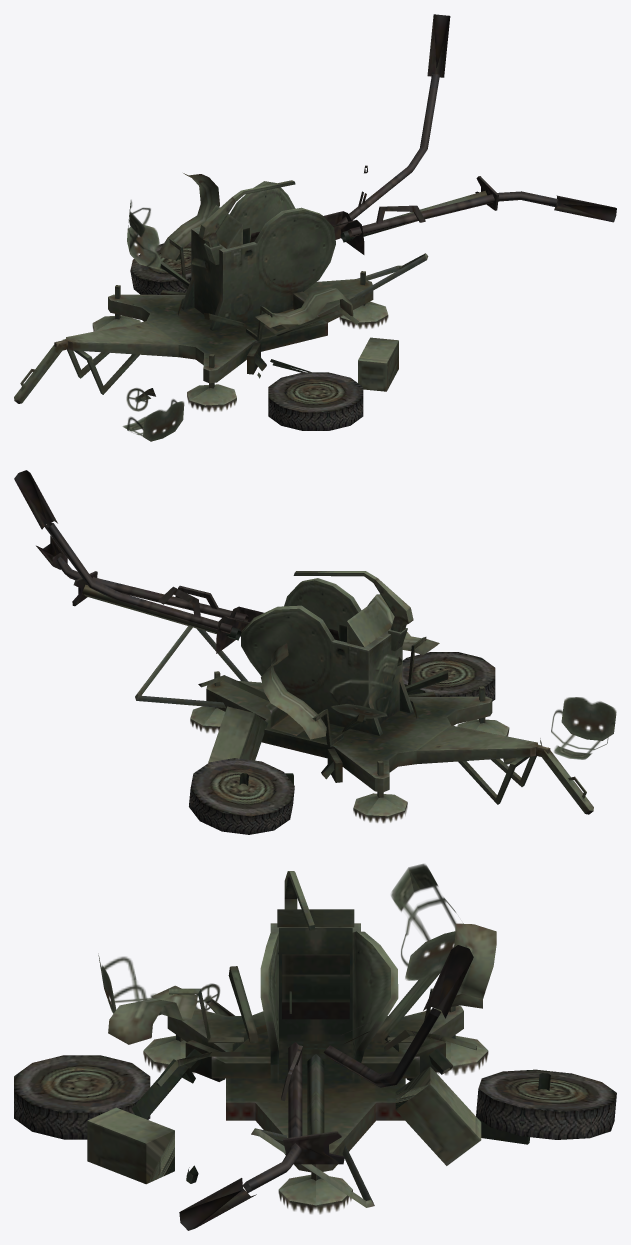
The model's file is AAGN03X.glb.
3 renders of one model, top to bottom at view 1: azimuth 30°, elevation 25°; view 2: azimuth 150°, elevation 25°; view 3: azimuth 270°, elevation 25°, orthographic. The views are drawn at different scales.
Parts seen in each view (by area): view 1: _AAGN03X; view 2: _AAGN03X; view 3: _AAGN03X.
Boxes of the visible parts, x1,y1,x2,y2 form: _AAGN03X: [14, 14, 616, 441]; _AAGN03X: [14, 470, 616, 834]; _AAGN03X: [14, 864, 616, 1230].
Size of the model in its own units: 5.39 by 2.2 by 3.5.
Materials: 2 (2 with a texture image).
